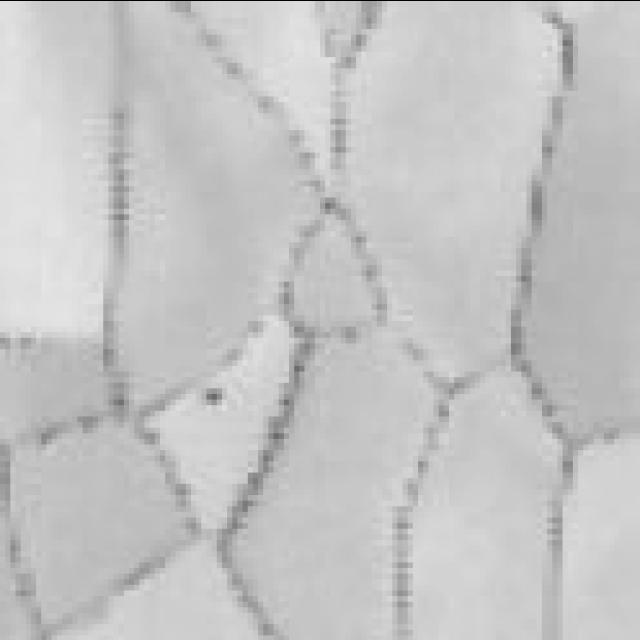good_void: (201, 393, 222, 404)
